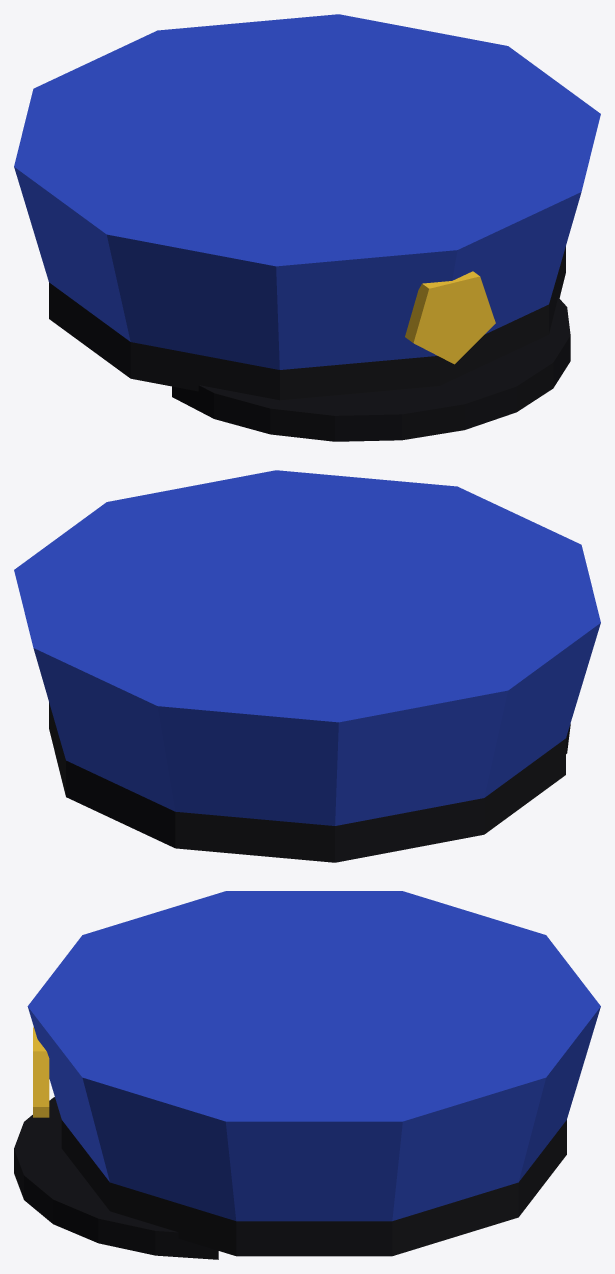
The model's file is party_trait_cap_blue.glb.
3 renders of one model, top to bottom at view 1: azimuth 30°, elevation 25°; view 2: azimuth 150°, elevation 25°; view 3: azimuth 270°, elevation 25°, orthographic. The views are drawn at different scales.
Visible parts, largest first — view 1: cap_trait_cap_blue, cap_trait_visor, cap_trait_cap_band, cap_trait_cap_star; view 2: cap_trait_cap_blue, cap_trait_cap_band; view 3: cap_trait_cap_blue, cap_trait_cap_band, cap_trait_visor, cap_trait_cap_star.
Boxes of the visible parts, x1,y1,x2,y2 form: cap_trait_cap_blue: (14, 14, 600, 369); cap_trait_visor: (172, 297, 570, 441); cap_trait_cap_band: (49, 246, 565, 400); cap_trait_cap_star: (405, 271, 495, 364); cap_trait_cap_blue: (14, 470, 600, 825); cap_trait_cap_band: (49, 702, 565, 862); cap_trait_cap_blue: (27, 891, 600, 1221); cap_trait_cap_band: (61, 1120, 566, 1256); cap_trait_visor: (14, 1097, 218, 1259); cap_trait_cap_star: (33, 1027, 49, 1117).
Size of the model in its own units: 0.3994 by 0.135 by 0.43.
